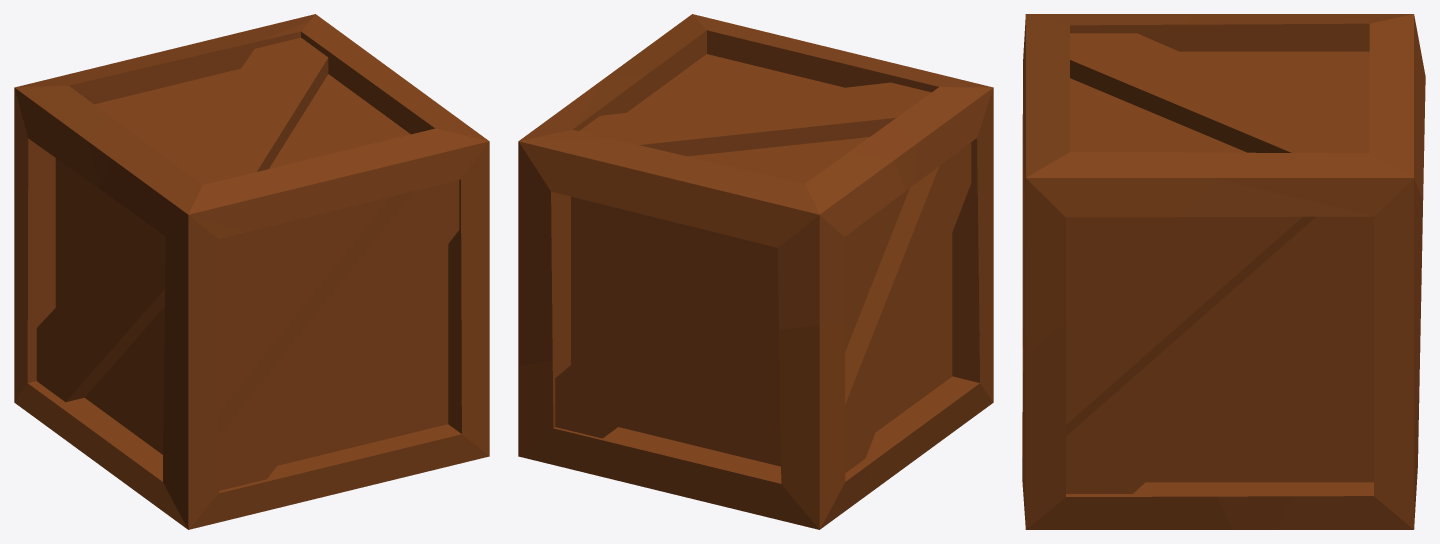
File: intro_prop(crate_broken)_01.FBX
The picture shows the model from 3 angles, left to right: view 1: azimuth 30°, elevation 25°; view 2: azimuth 150°, elevation 25°; view 3: azimuth 270°, elevation 25°; orthographic projection. The views are drawn at different scales.
Parts seen in each view (by area): view 1: crate_broken_5, crate_broken_6, crate_broken_4, crate_broken_2, crate_broken_8, crate_broken_3, crate_broken_1, crate_broken_10; view 2: crate_broken_4, crate_broken_10, crate_broken_5, crate_broken_9, crate_broken_8, crate_broken_1, crate_broken_2, crate_broken_3; view 3: crate_broken_3, crate_broken_4, crate_broken_5, crate_broken_7, crate_broken_2, crate_broken_1, crate_broken_10.
Boxes of the visible parts, <box> form: crate_broken_5: <box>50,145,489,529</box>; crate_broken_6: <box>219,180,459,490</box>; crate_broken_4: <box>14,14,319,273</box>; crate_broken_2: <box>191,79,489,298</box>; crate_broken_8: <box>36,218,165,402</box>; crate_broken_3: <box>88,17,404,227</box>; crate_broken_1: <box>176,37,328,184</box>; crate_broken_10: <box>14,198,86,428</box>; crate_broken_4: <box>518,137,905,365</box>; crate_broken_10: <box>518,323,867,529</box>; crate_broken_5: <box>737,80,993,502</box>; crate_broken_9: <box>555,235,778,438</box>; crate_broken_8: <box>845,142,971,472</box>; crate_broken_1: <box>579,82,931,156</box>; crate_broken_2: <box>608,14,990,91</box>; crate_broken_3: <box>523,73,916,230</box>; crate_broken_3: <box>1129,14,1404,529</box>; crate_broken_4: <box>1249,14,1425,452</box>; crate_broken_5: <box>1022,14,1232,529</box>; crate_broken_7: <box>1066,216,1373,493</box>; crate_broken_2: <box>1023,15,1213,353</box>; crate_broken_1: <box>1070,33,1369,153</box>; crate_broken_10: <box>1276,393,1419,529</box>.
Bounding box in the file's own units: 41.03 × 40.87 × 40.9.
